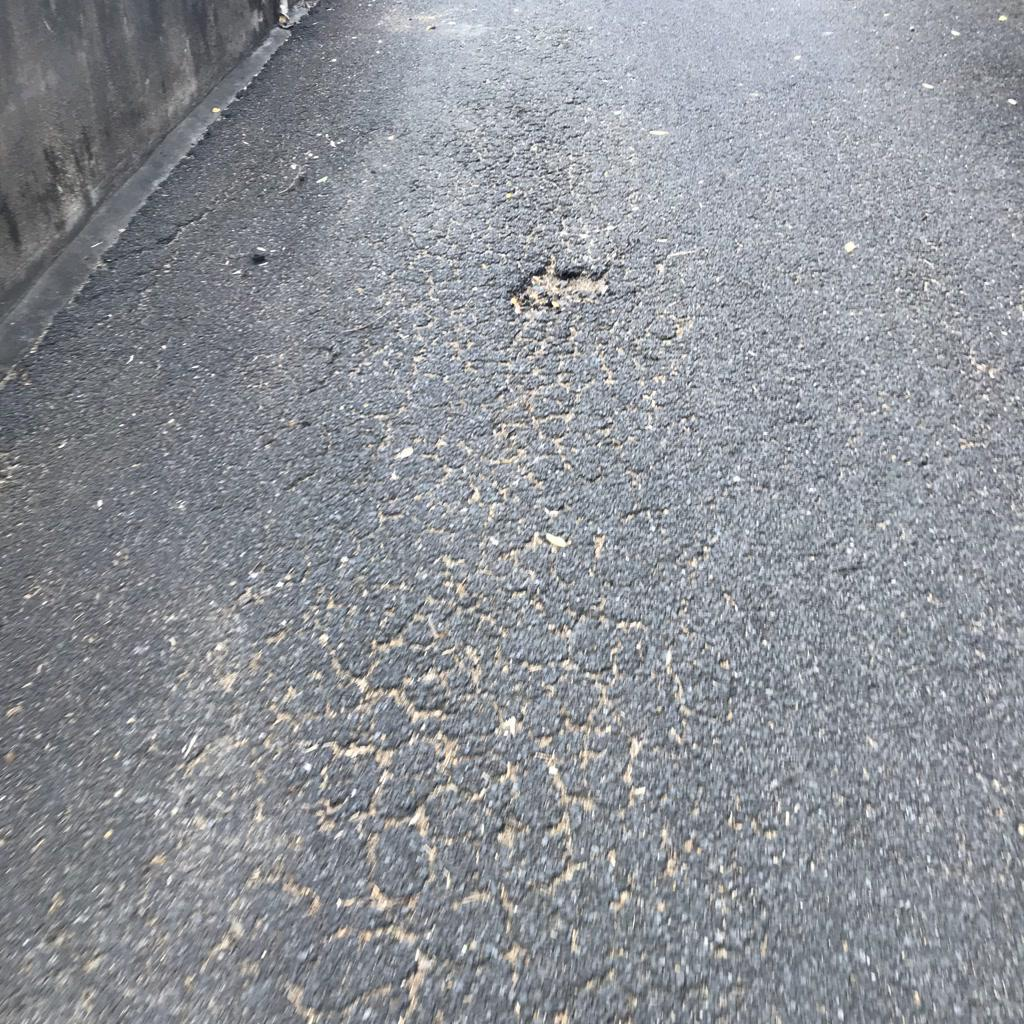D40: (492, 248, 626, 315)
